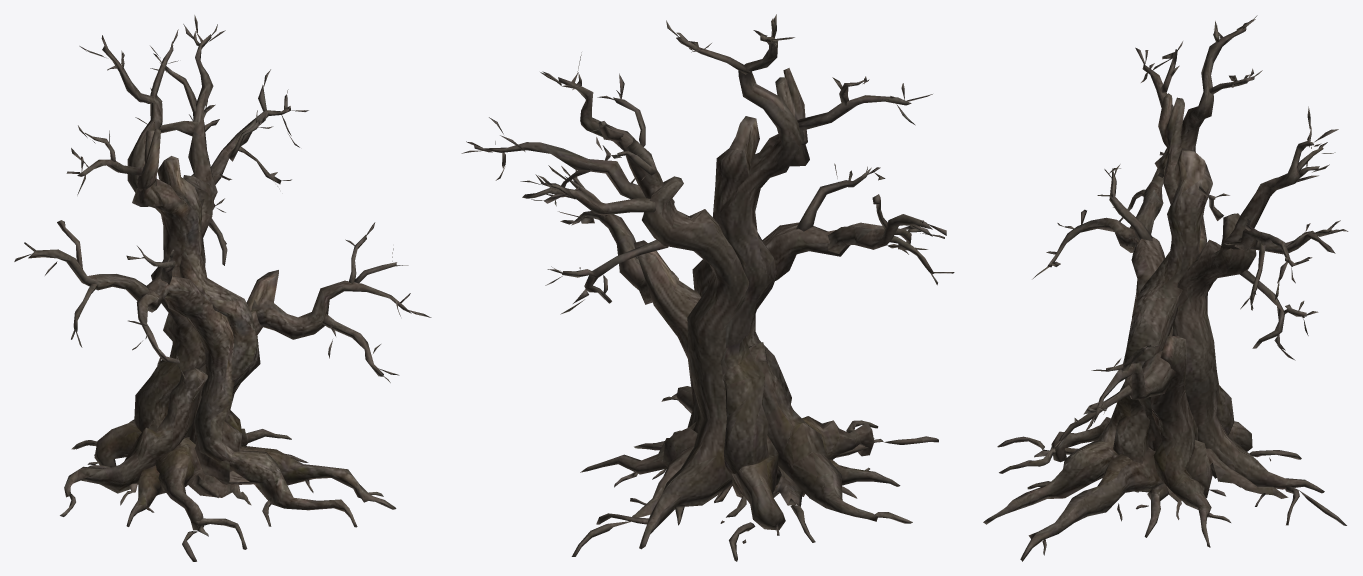
The model's file is h_tree_dead_medium.glb.
3 views of the same model, side by side, from view 1: azimuth 30°, elevation 25°; view 2: azimuth 150°, elevation 25°; view 3: azimuth 270°, elevation 25° (orthographic). The views are drawn at different scales.
Visible parts, largest first — view 1: h_tree_dead_medium; view 2: h_tree_dead_medium; view 3: h_tree_dead_medium.
Boxes of the visible parts, x1,y1,x2,y2 form: h_tree_dead_medium: [14, 15, 431, 561]; h_tree_dead_medium: [461, 14, 954, 561]; h_tree_dead_medium: [983, 15, 1348, 561].
Size of the model in its own units: 3.73 by 4.19 by 3.07.
Materials: 1 (1 with a texture image).
